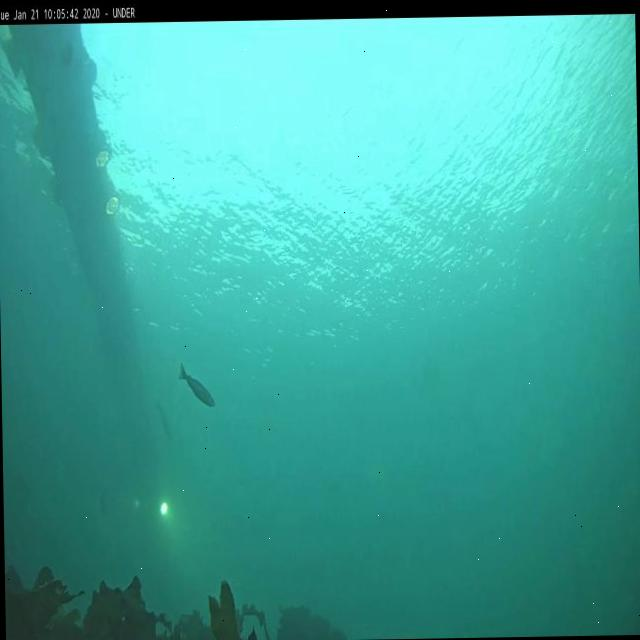fish: (178, 361, 215, 407)
